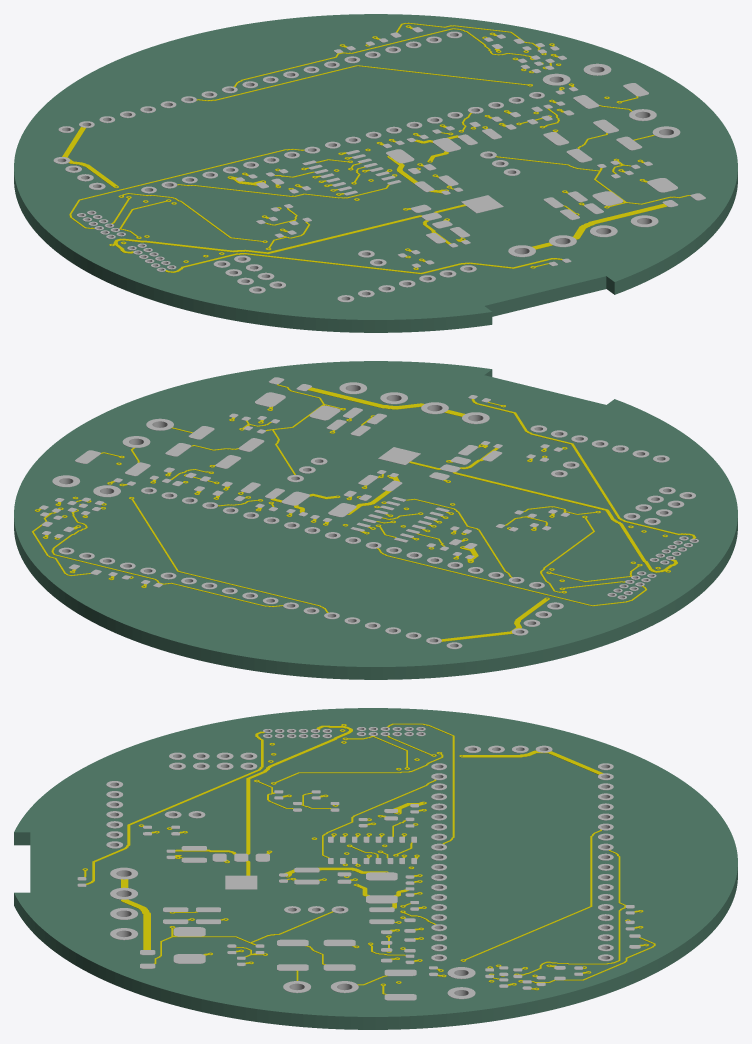
The model's file is CB1D_with_components.glb.
3 renders of one model, top to bottom at view 1: azimuth 30°, elevation 25°; view 2: azimuth 150°, elevation 25°; view 3: azimuth 270°, elevation 25°, orthographic.
Parts seen in each view (by area): view 1: =>[0:1:1:5], =>[0:1:1:3], =>[0:1:1:2]; view 2: =>[0:1:1:5], =>[0:1:1:3], =>[0:1:1:2]; view 3: =>[0:1:1:5], =>[0:1:1:3], =>[0:1:1:2].
Boxes of the visible parts, x1,y1,x2,y2 form: =>[0:1:1:5]: (14, 14, 737, 332); =>[0:1:1:3]: (53, 27, 705, 302); =>[0:1:1:2]: (62, 22, 690, 274); =>[0:1:1:5]: (14, 361, 737, 679); =>[0:1:1:3]: (39, 377, 698, 649); =>[0:1:1:2]: (32, 384, 696, 641); =>[0:1:1:5]: (14, 708, 737, 1029); =>[0:1:1:3]: (77, 727, 640, 1000); =>[0:1:1:2]: (82, 723, 655, 994).
Size of the model in its own units: 0.078 by 0.00161 by 0.0772.
